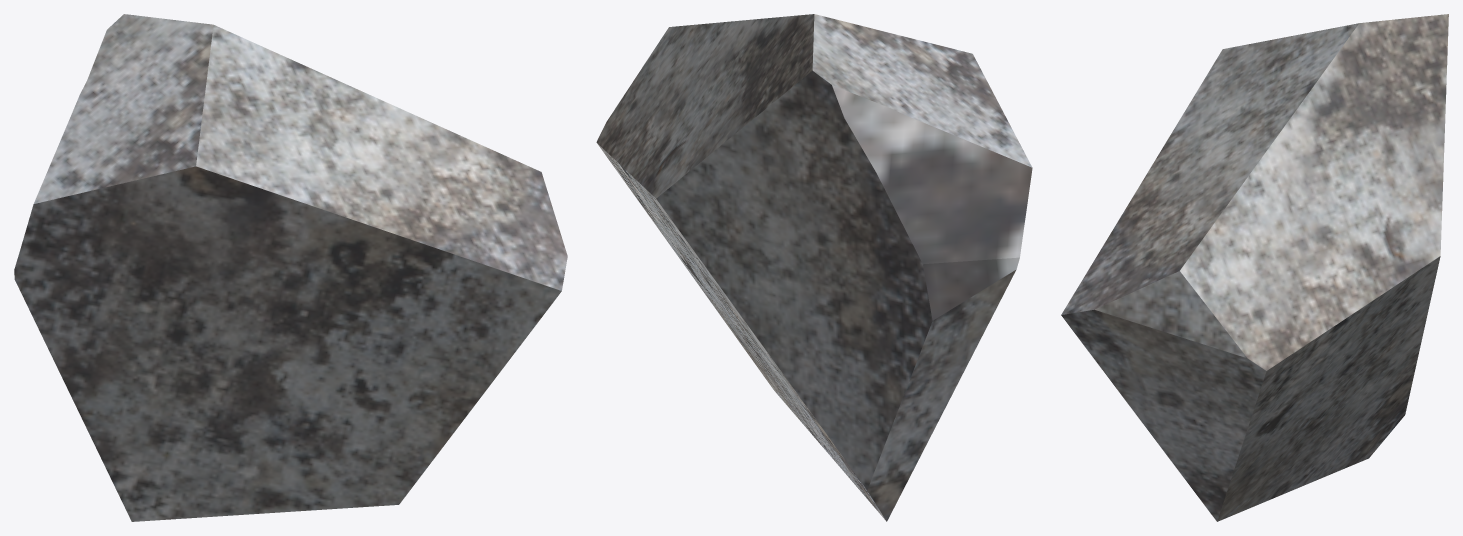
The model's file is Asteroid_Large_001_02_003_03_016.fbx.
The picture shows the model from 3 angles, left to right: view 1: azimuth 30°, elevation 25°; view 2: azimuth 150°, elevation 25°; view 3: azimuth 270°, elevation 25°; orthographic projection. The views are drawn at different scales.
Visible parts, largest first — view 1: Asteroid_Large_001_02_003_03_016; view 2: Asteroid_Large_001_02_003_03_016; view 3: Asteroid_Large_001_02_003_03_016.
Part boxes in pixels (x1,y1,x2,y2): Asteroid_Large_001_02_003_03_016: (14, 14, 567, 521); Asteroid_Large_001_02_003_03_016: (596, 14, 1032, 521); Asteroid_Large_001_02_003_03_016: (1061, 14, 1448, 521).
Bounding box in the file's own units: 8.23 × 8.14 × 6.06.
